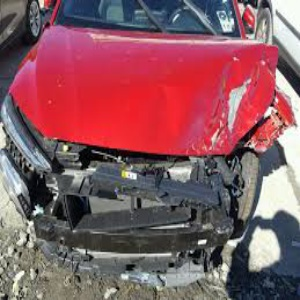bonnet: (66, 44, 275, 149)
